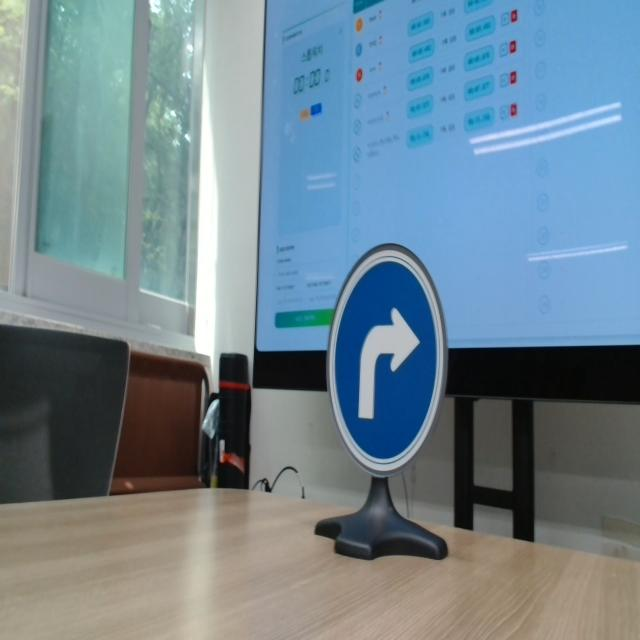right_dierection: (320, 222, 461, 494)
